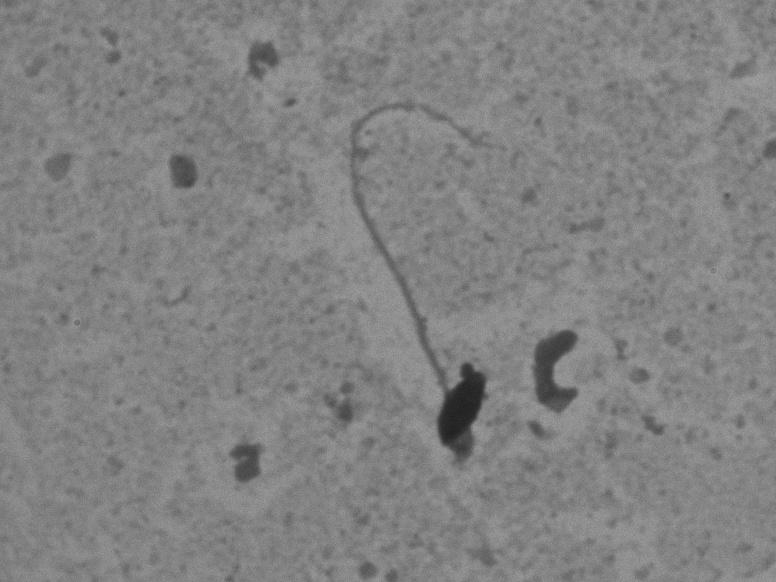Abnormal: (319, 82, 564, 472)
